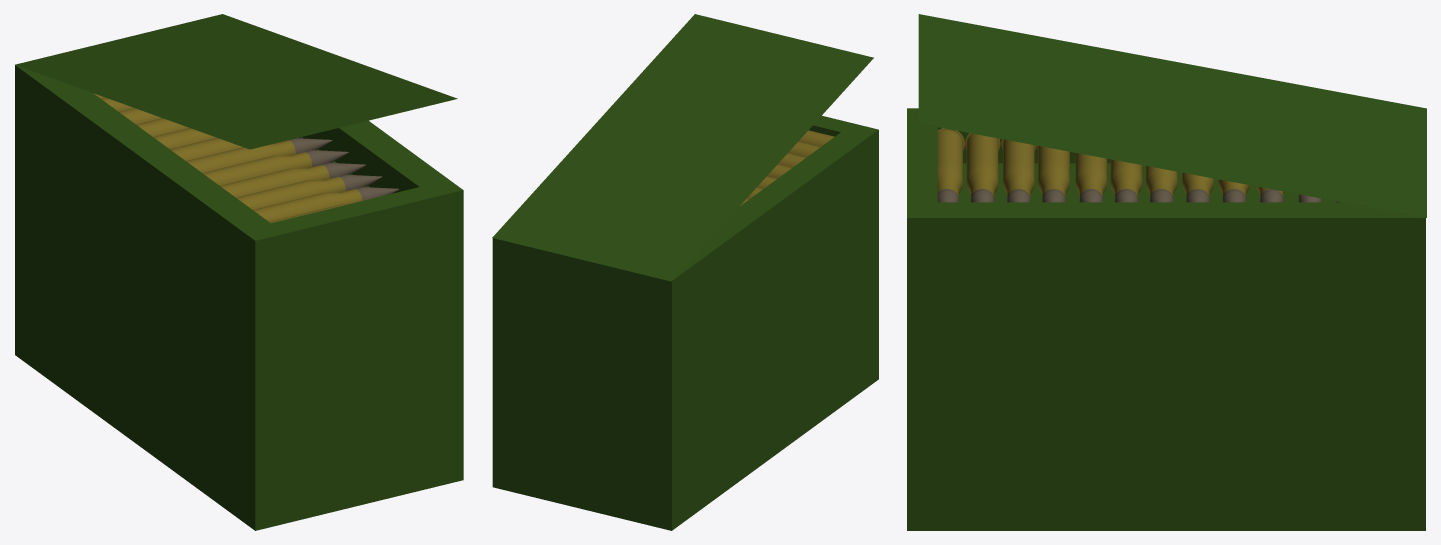
Rendered from AmmoPickup.fbx.
The picture shows the model from 3 angles, left to right: view 1: azimuth 30°, elevation 25°; view 2: azimuth 150°, elevation 25°; view 3: azimuth 270°, elevation 25°; orthographic projection. The views are drawn at different scales.
Parts seen in each view (by area): view 1: ammoBoxBody, pPlane1, shellCasing4, shellCasing2, shellCasing3, shellCasing1, shellCasing5, shellCasing6, shellCasing7, shellCasing8; view 2: ammoBoxBody, pPlane1; view 3: ammoBoxBody, pPlane1, shellCasing1, shellCasing2, shellCasing, shellCasing3, shellCasing4, shellCasing5, shellCasing6.
Part boxes in pixels (x1,y1,x2,y2): ammoBoxBody: (15, 65, 463, 530); pPlane1: (15, 14, 457, 149); shellCasing4: (202, 152, 312, 185); shellCasing2: (236, 176, 345, 209); shellCasing3: (220, 164, 329, 197); shellCasing1: (253, 189, 362, 221); shellCasing5: (186, 140, 295, 172); shellCasing6: (170, 137, 242, 160); shellCasing7: (153, 128, 216, 148); shellCasing8: (136, 118, 188, 136); ammoBoxBody: (492, 116, 878, 530); pPlane1: (492, 14, 873, 281); ammoBoxBody: (907, 108, 1425, 530); pPlane1: (918, 14, 1426, 217); shellCasing1: (966, 133, 998, 198); shellCasing2: (1003, 139, 1034, 199); shellCasing: (937, 130, 962, 197); shellCasing3: (1038, 146, 1069, 198); shellCasing4: (1075, 153, 1107, 198); shellCasing5: (1110, 159, 1142, 199); shellCasing6: (1145, 166, 1177, 198).
Size of the model in its own units: 2 by 3.46 by 4.01.
